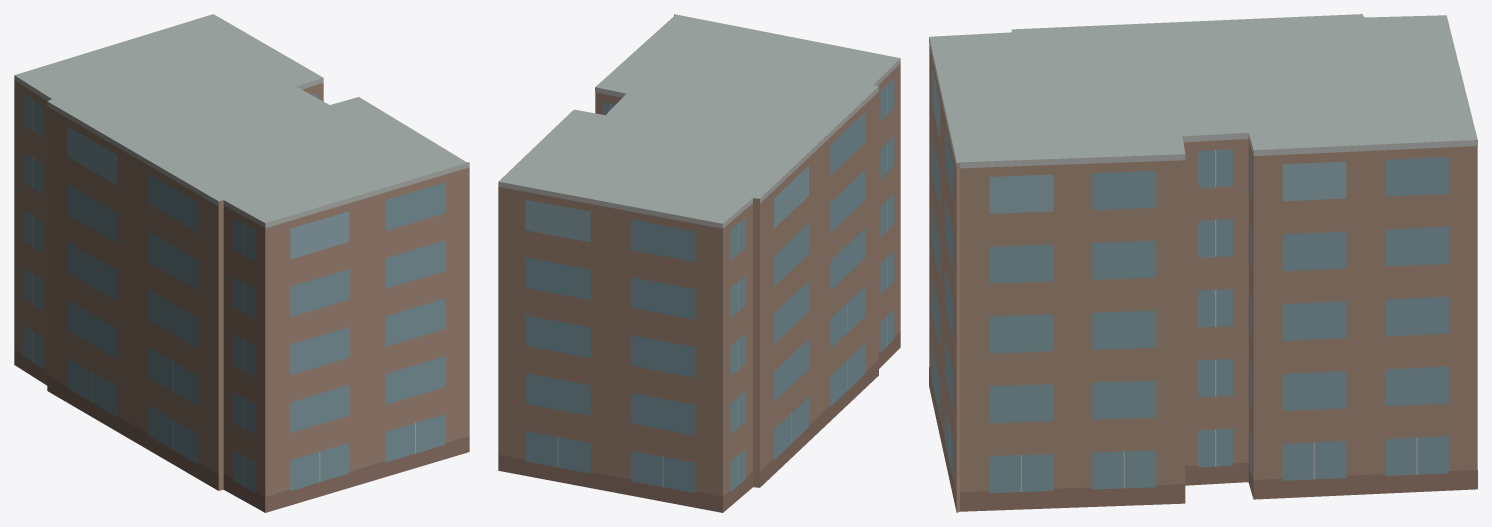
File: survey-upis-32811551.glb
The picture shows the model from 3 angles, left to right: view 1: azimuth 30°, elevation 25°; view 2: azimuth 150°, elevation 25°; view 3: azimuth 270°, elevation 25°; orthographic projection. The views are drawn at different scales.
Parts seen in each view (by area): view 1: survey-upis-32811551.tmp; view 2: survey-upis-32811551.tmp; view 3: survey-upis-32811551.tmp.
Part boxes in pixels (box(x1,y1,x2,y2)): survey-upis-32811551.tmp: box(14, 14, 469, 512); survey-upis-32811551.tmp: box(498, 14, 900, 512); survey-upis-32811551.tmp: box(929, 14, 1477, 512).
Bounding box in the file's own units: 13.05 × 14.2 × 20.23.
